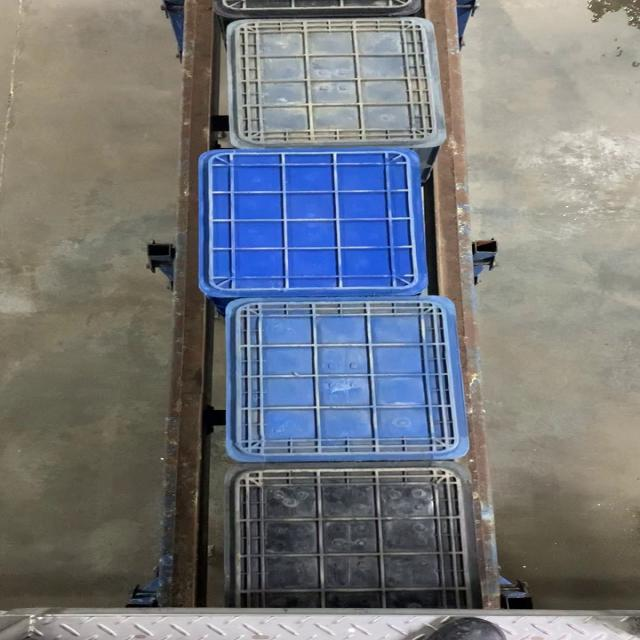Box: (224, 298, 467, 462), (200, 149, 434, 293), (221, 17, 451, 147)
